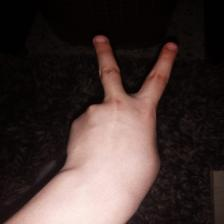two: (69, 32, 182, 192)
